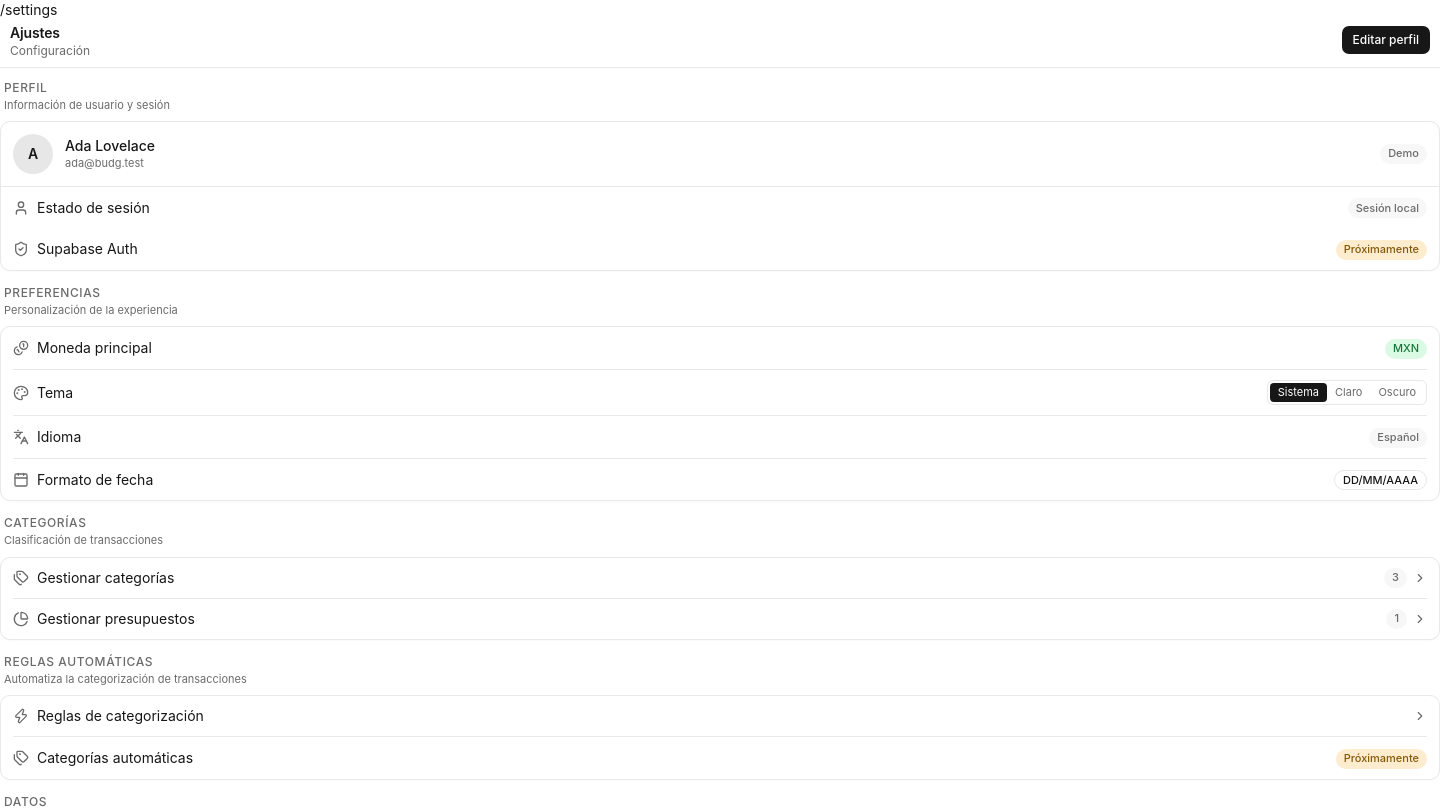
Test case: SettingsPage › edits and trims the profile name while keeping email read-only
This screenshot has width=1440, height=810.
Click the button "Editar perfil" at {"x": 1386, "y": 40}, box [1342,26,1430,54]
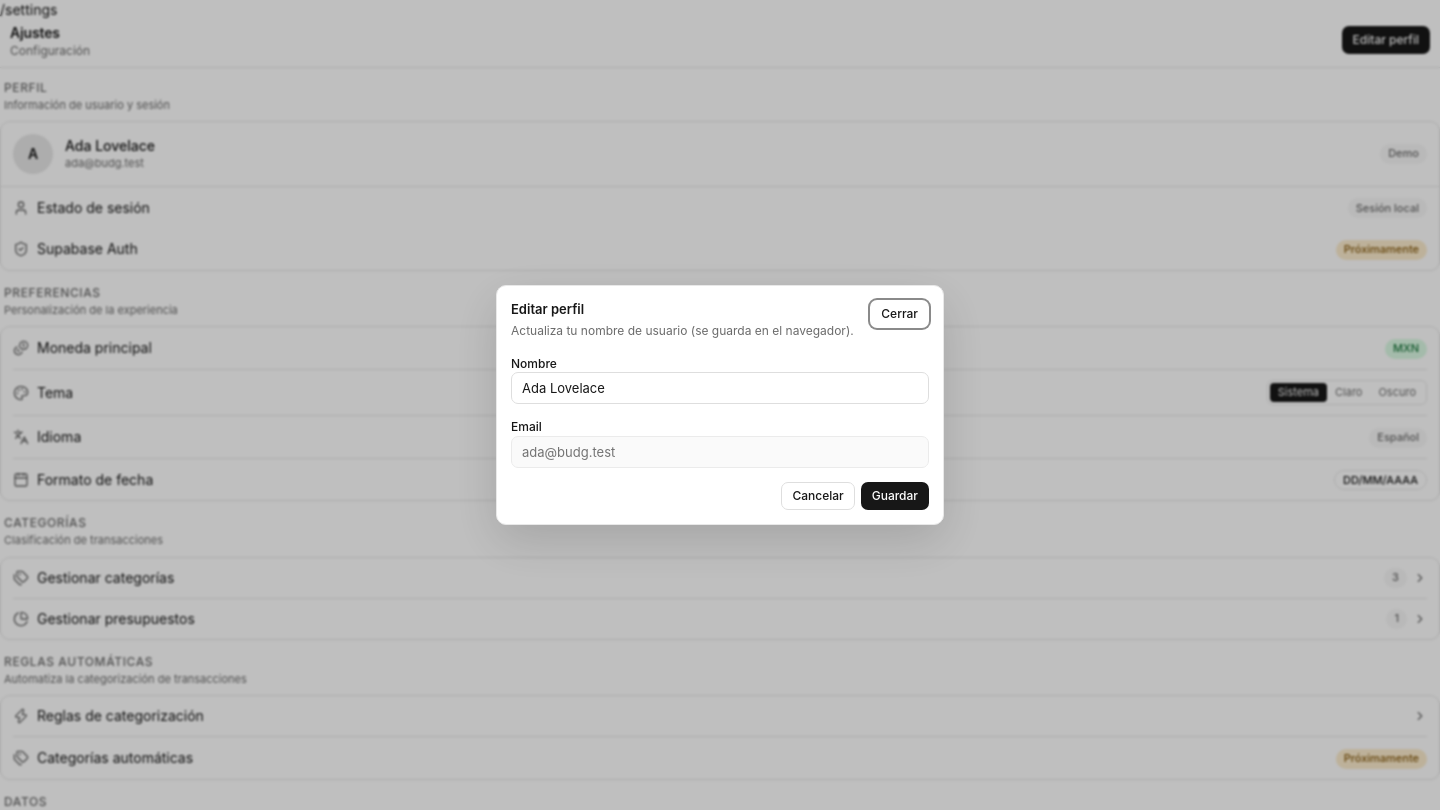
Check: the 1st field with placeholder "Usuario Demo" holds "Ada Lovelace"
Check: the 2nd field showing "ada@budg.test" is disabled, box [511,436,929,468]
Replace the text in the 1st field with placeholder "Usuario Demo" with "  Grace Hopper  " at {"x": 720, "y": 388}, box [511,372,929,404]
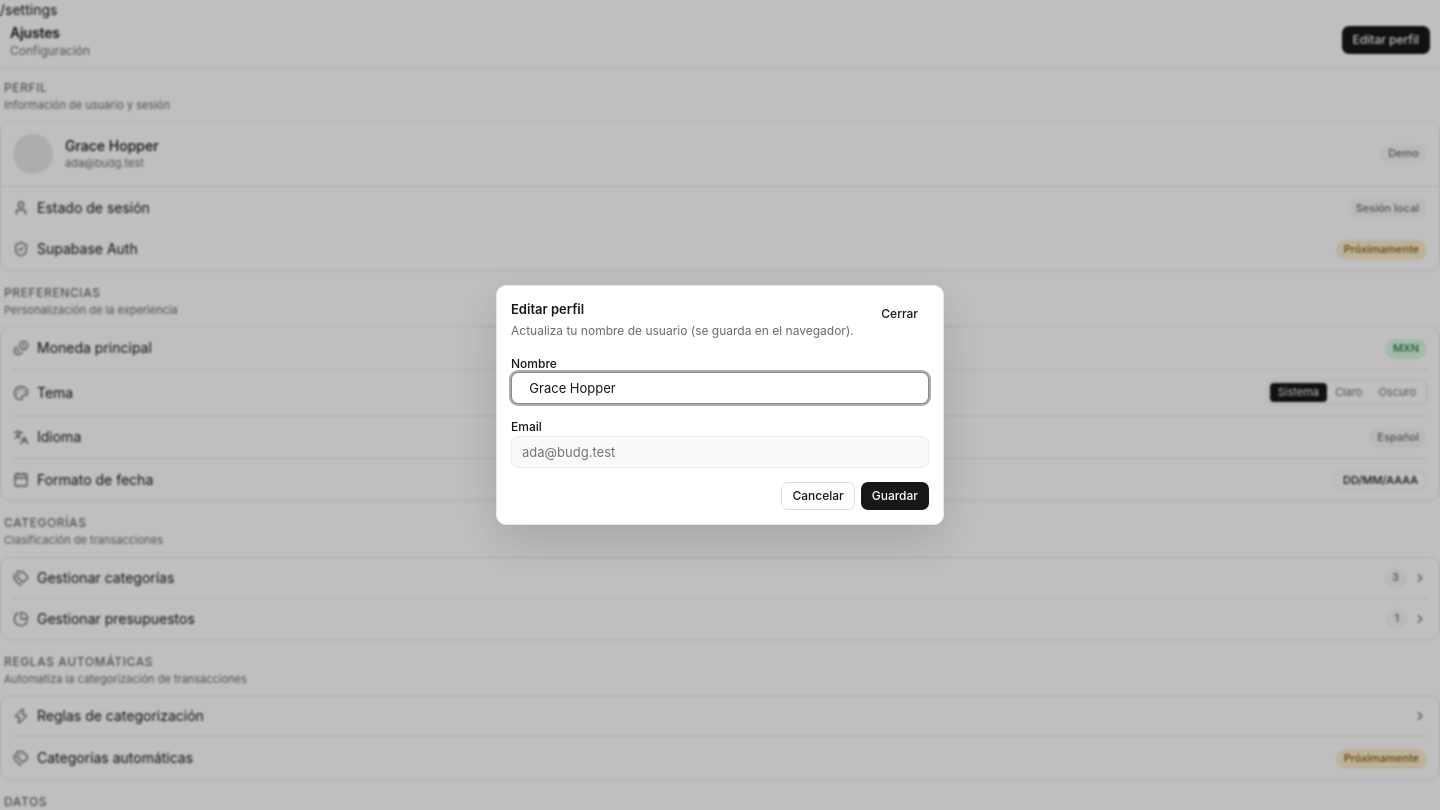
Click the button "Guardar" at {"x": 895, "y": 496}, box [861,482,929,510]
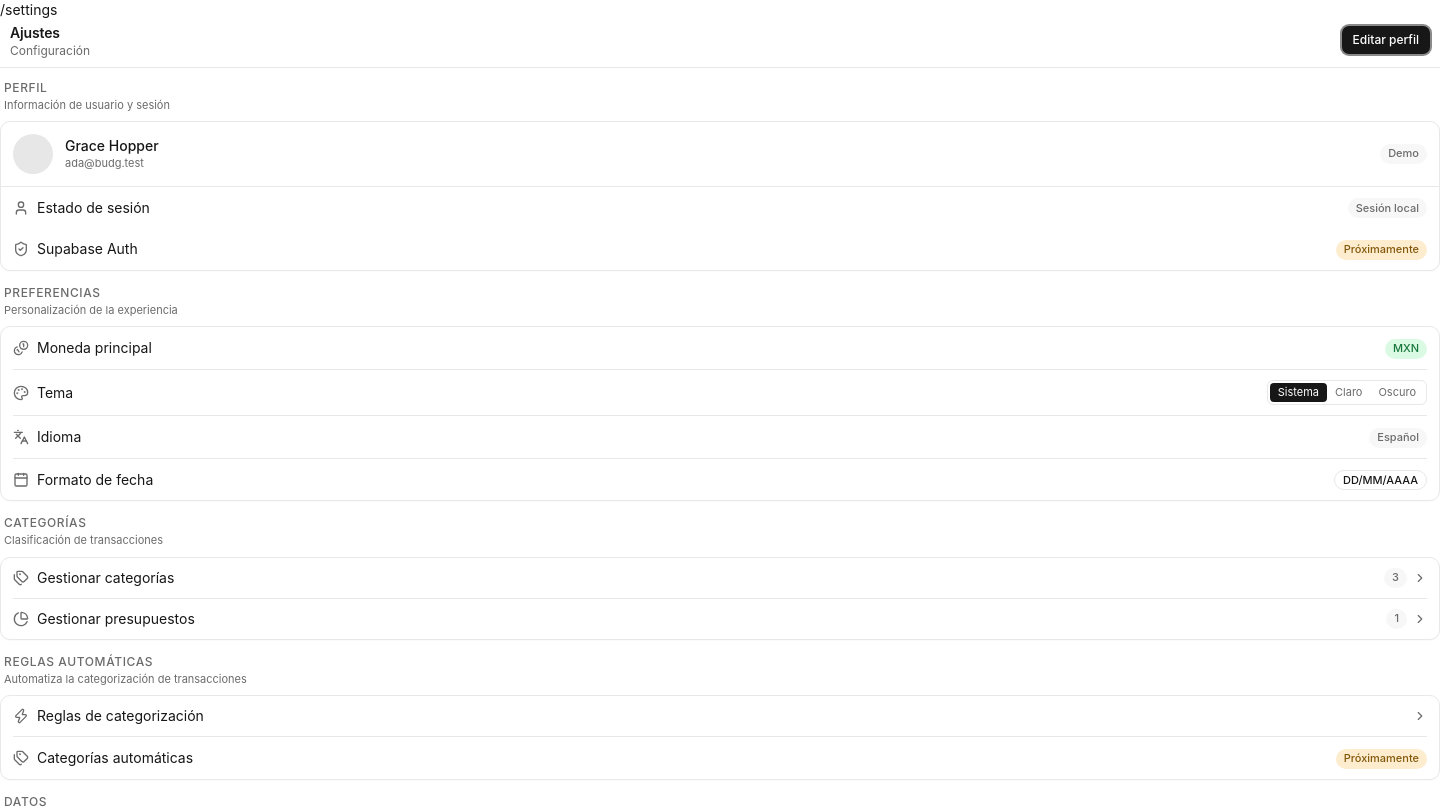
Check: the text "Actualiza tu nombre de usuario (se guarda en el navegador)." is gone
